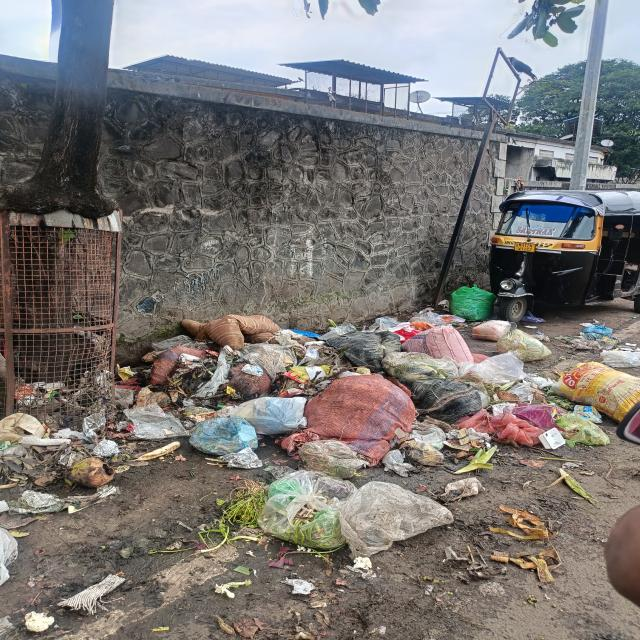garbage: (131, 310, 632, 547), (2, 396, 136, 581)
